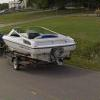Boat: (2, 15, 79, 80)
